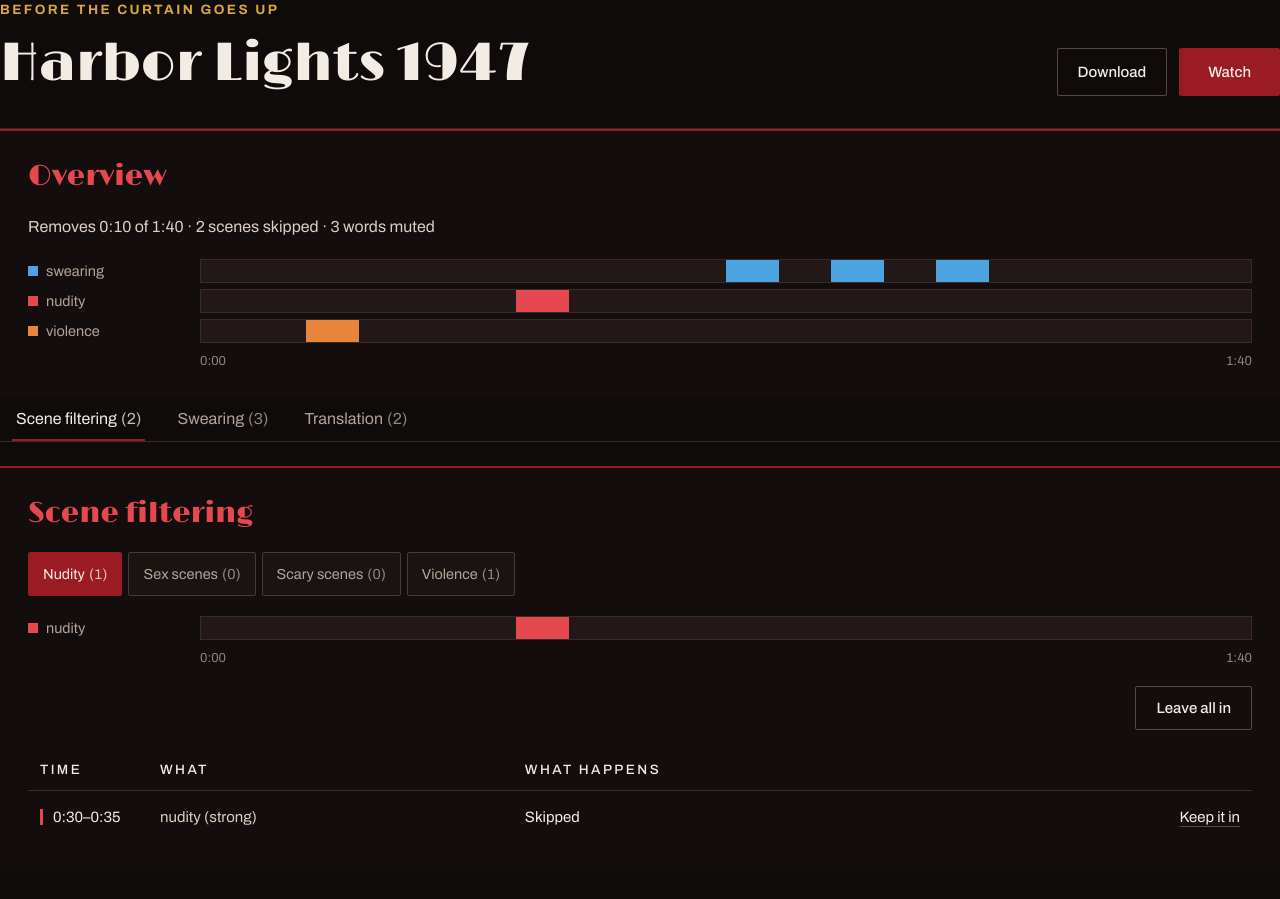
Test: ReviewPage tabs › shows swearing on its tab, split into swearing and blasphemy
Click the tab "Swearing (3)". click: (223, 419)
box: [162,397,284,441]
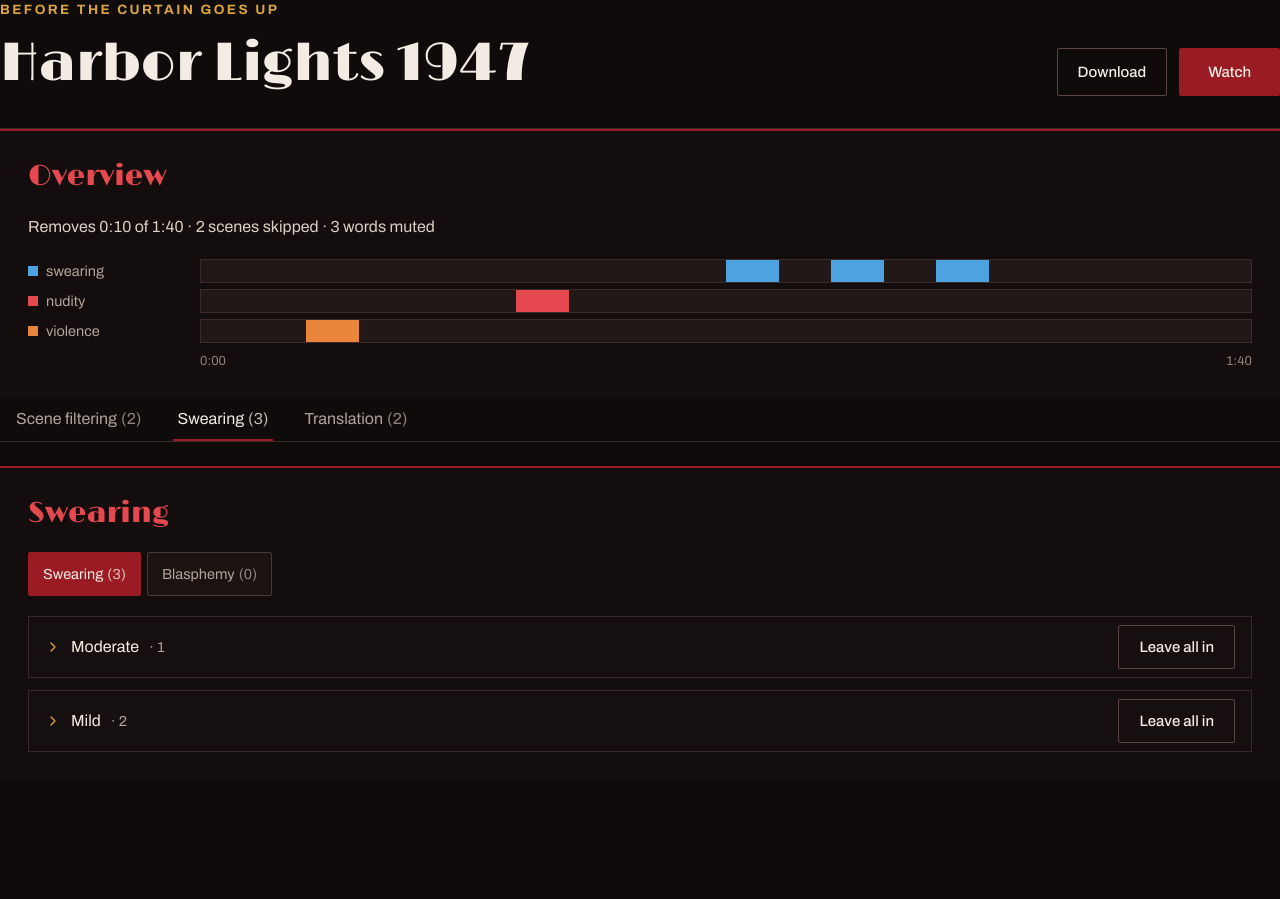
Expected: the text "“hell”" is not shown
Expected: the tabs read "Swearing (3)", "Blasphemy (0)", in this order, [28,552,141,596]; [147,552,272,596]
Click the button "Moderate · 1". click: (105, 647)
box: [45,625,165,669]
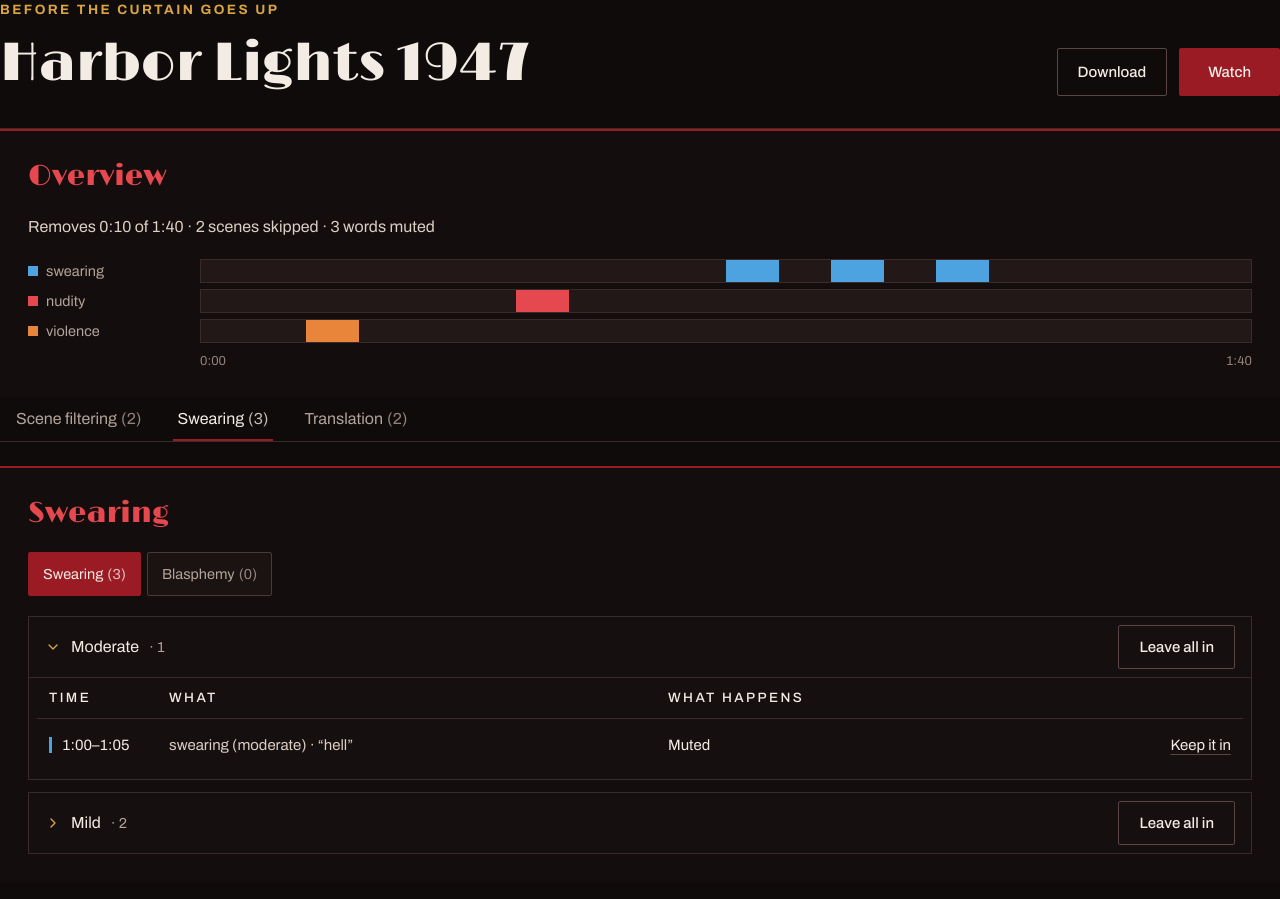
Click the button "Mild · 2". click: (86, 822)
box: [45,800,127,844]
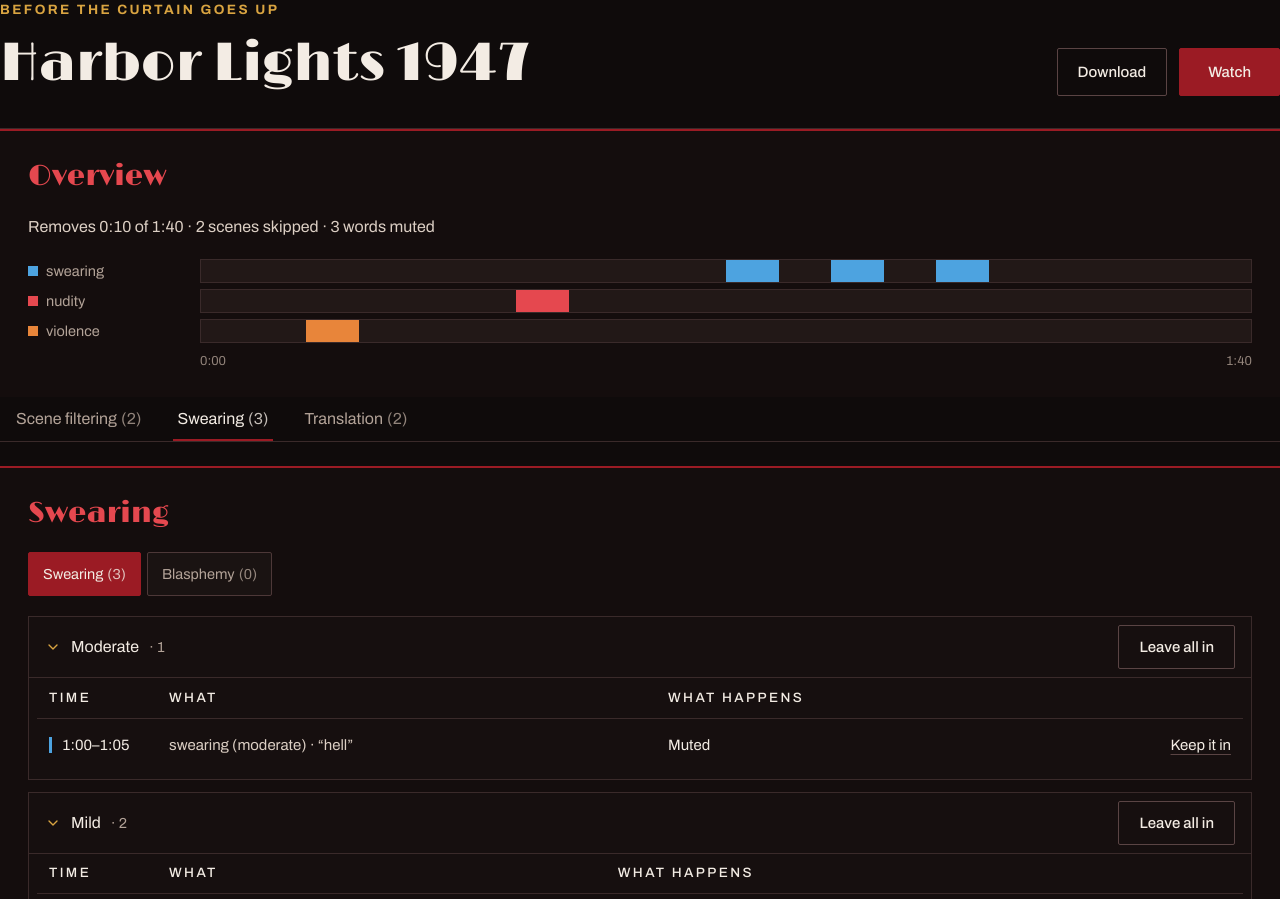
Expected: the text "swearing (moderate) · “hell”" is shown 3 times
